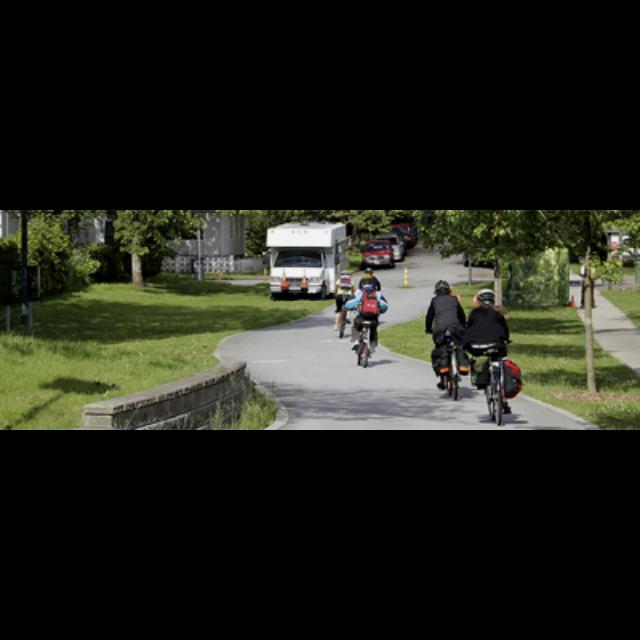With Helmet: (473, 285, 499, 309), (430, 276, 454, 296), (358, 272, 378, 288)
